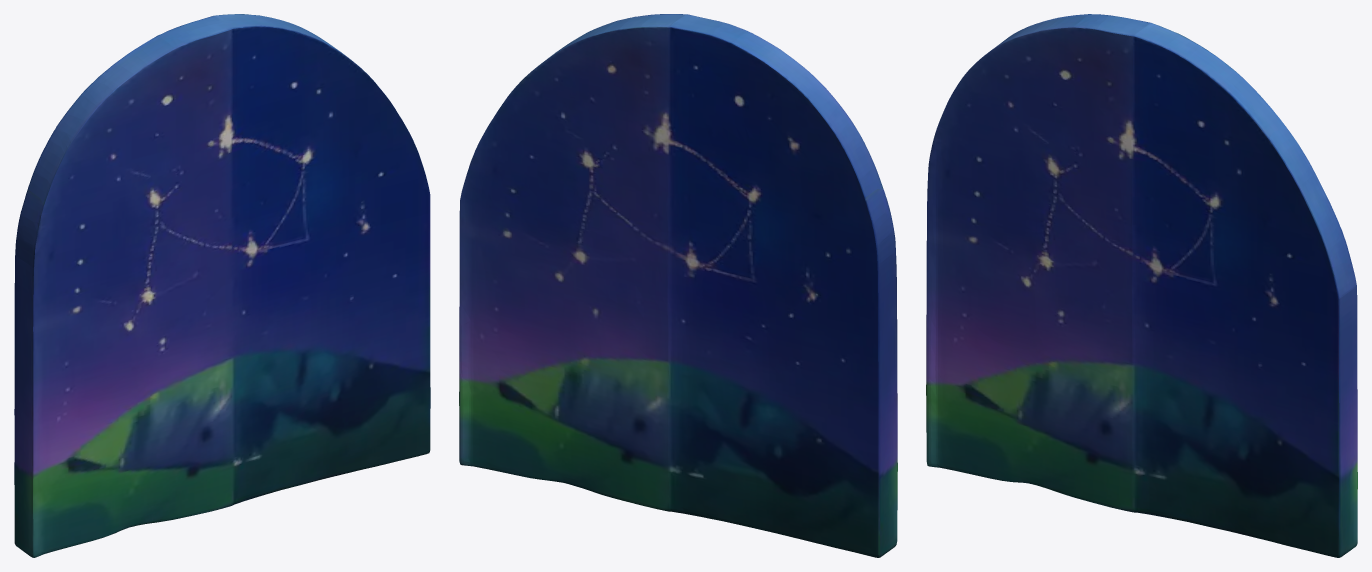
3 views of the same model, side by side, from view 1: azimuth 30°, elevation 25°; view 2: azimuth 150°, elevation 25°; view 3: azimuth 330°, elevation 25° (orthographic).
Parts seen in each view (by area): view 1: world; view 2: world; view 3: world.
Part boxes in pixels (left/top/right/bottom): world: left=14, top=14, right=430, bottom=557; world: left=459, top=14, right=897, bottom=557; world: left=926, top=14, right=1357, bottom=557.
Size of the model in its own units: 0.888 by 0.9985 by 0.1039.
Materials: 1 (1 with a texture image).
